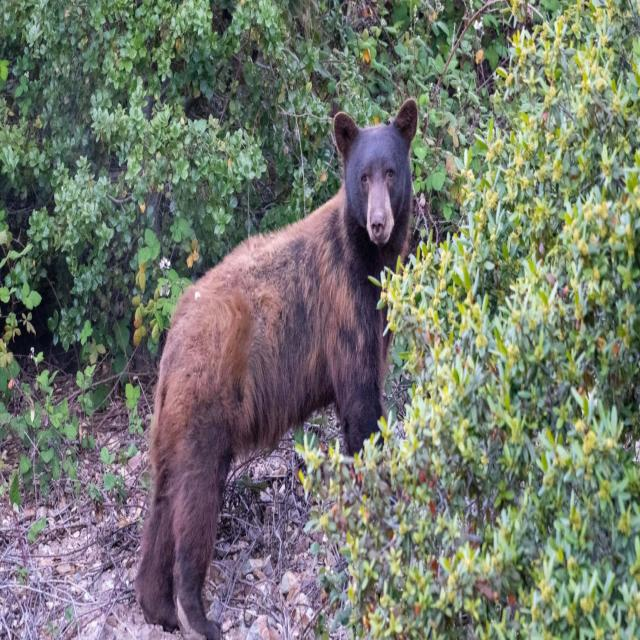Bear: (135, 99, 419, 640)
